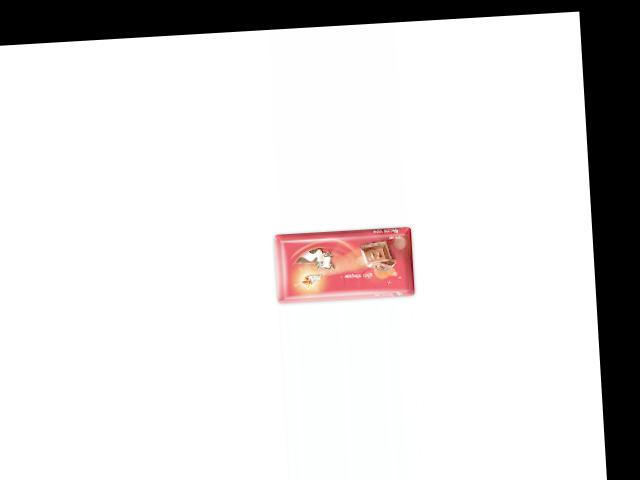chocolate: (265, 221, 417, 304)
